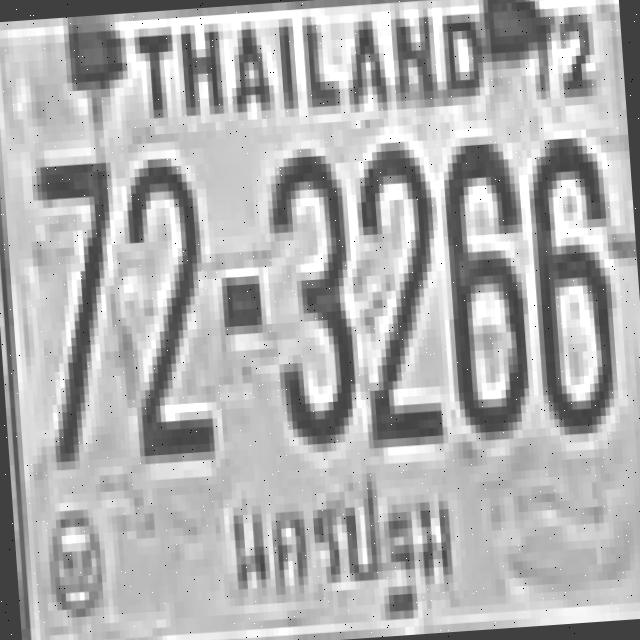2: (348, 136, 442, 444), (119, 148, 210, 456)
3: (261, 138, 356, 446)
6: (434, 134, 529, 434), (520, 128, 615, 428)
7: (30, 154, 126, 462), (30, 154, 124, 430)
NakhonPathom: (218, 461, 464, 633)
